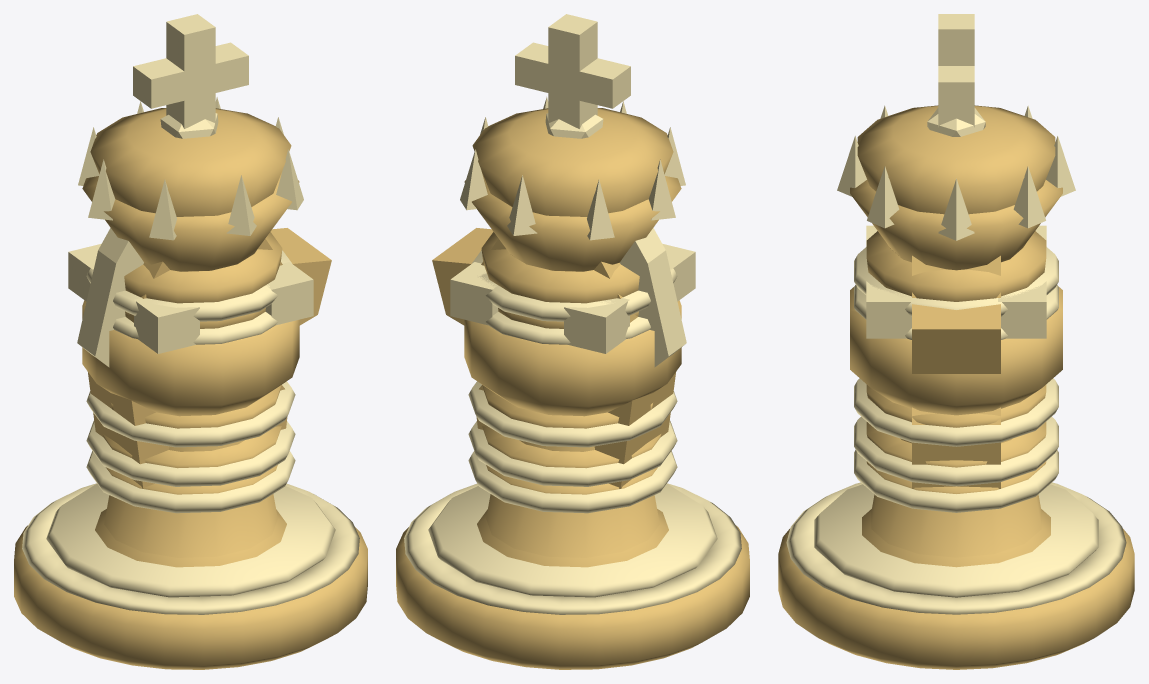
File: bronze.glb
3 renders of one model, left to right at view 1: azimuth 30°, elevation 25°; view 2: azimuth 150°, elevation 25°; view 3: azimuth 270°, elevation 25°, orthographic.
Visible parts, largest first — view 1: K, disc, R, B, Q, N, P; view 2: K, disc, R, B, Q, N, P; view 3: K, disc, R, B, Q, N, P.
Part boxes in pixels (x1,y1,x2,y2): K: [86, 14, 291, 557]; disc: [14, 483, 367, 669]; R: [68, 243, 313, 447]; B: [46, 255, 335, 597]; Q: [78, 97, 303, 344]; N: [77, 228, 331, 513]; P: [86, 420, 295, 486]; K: [472, 14, 677, 557]; disc: [396, 483, 749, 669]; R: [450, 243, 695, 447]; B: [428, 255, 717, 597]; Q: [460, 97, 685, 344]; N: [432, 228, 686, 513]; P: [468, 420, 677, 486]; K: [854, 14, 1058, 557]; disc: [778, 482, 1134, 669]; R: [850, 225, 1062, 446]; B: [814, 248, 1098, 597]; Q: [837, 105, 1075, 339]; N: [854, 255, 1058, 512]; P: [854, 417, 1058, 486].
Bounding box in the file's own units: 0.88 × 1.58 × 0.88.
